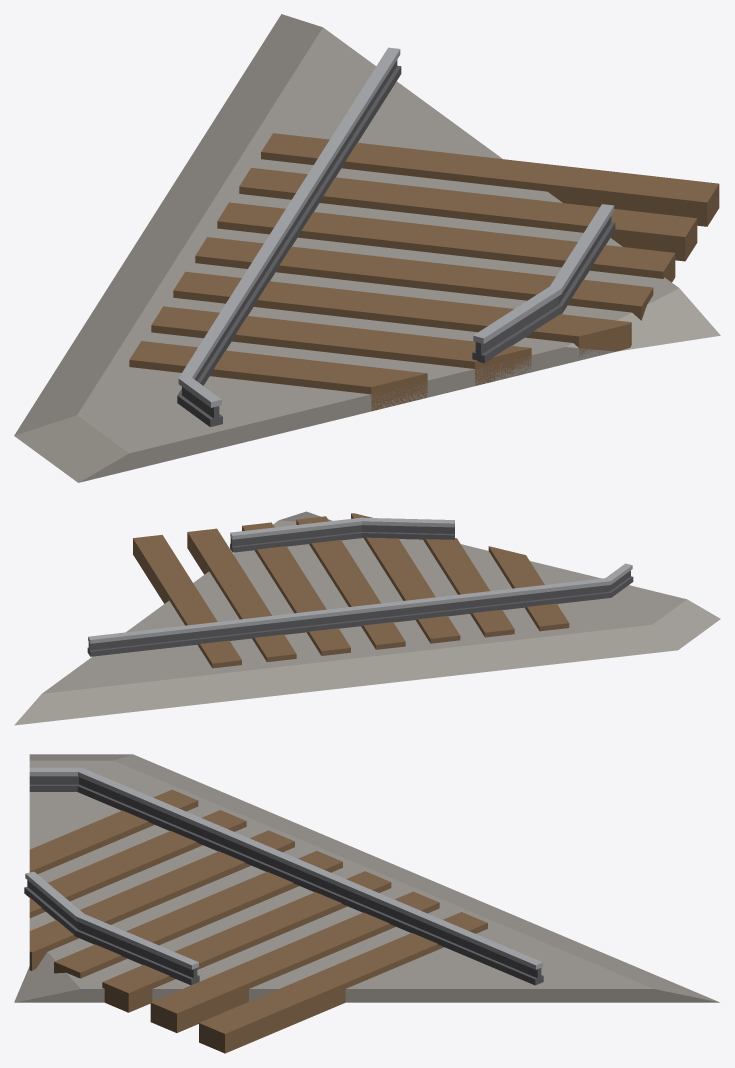
The model's file is SM_Rail_Diagonal_Join_A.glb.
3 views of the same model, one above another, from view 1: azimuth 30°, elevation 25°; view 2: azimuth 150°, elevation 25°; view 3: azimuth 270°, elevation 25° (orthographic). The views are drawn at different scales.
Parts seen in each view (by area): view 1: SM_Rail_Diagonal_Join_A; view 2: SM_Rail_Diagonal_Join_A; view 3: SM_Rail_Diagonal_Join_A.
Boxes of the visible parts, <box> form: SM_Rail_Diagonal_Join_A: <box>14,14,720,482</box>; SM_Rail_Diagonal_Join_A: <box>14,511,720,725</box>; SM_Rail_Diagonal_Join_A: <box>14,754,719,1053</box>.
Bounding box in the file's own units: 4.19 × 0.254 × 4.19.
